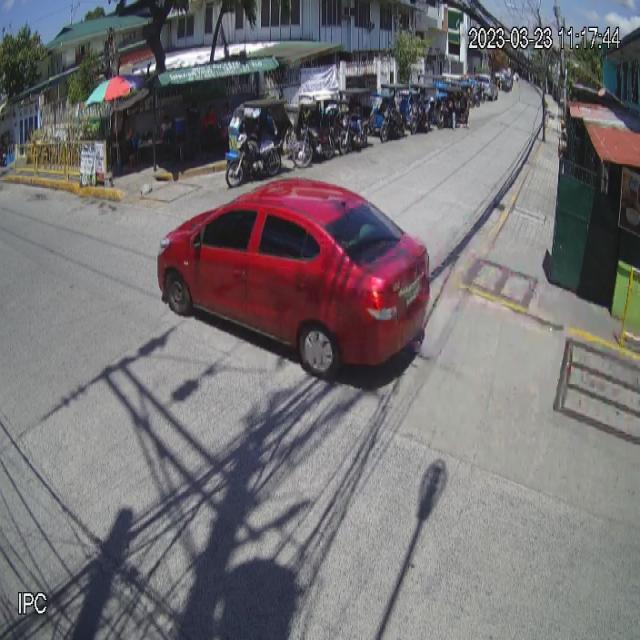Car: (156, 176, 433, 383)
